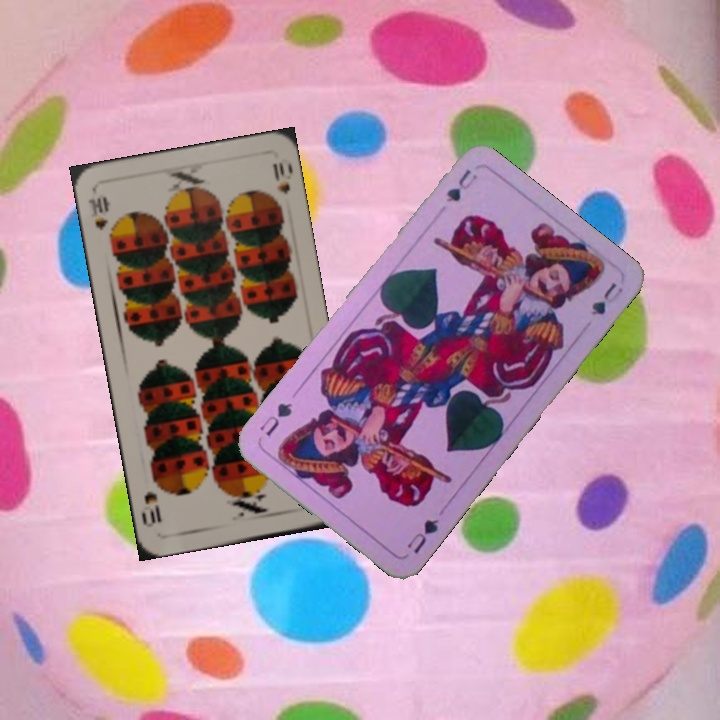GU: (441, 165, 481, 205), (403, 515, 441, 557)
S10: (84, 193, 111, 233)
